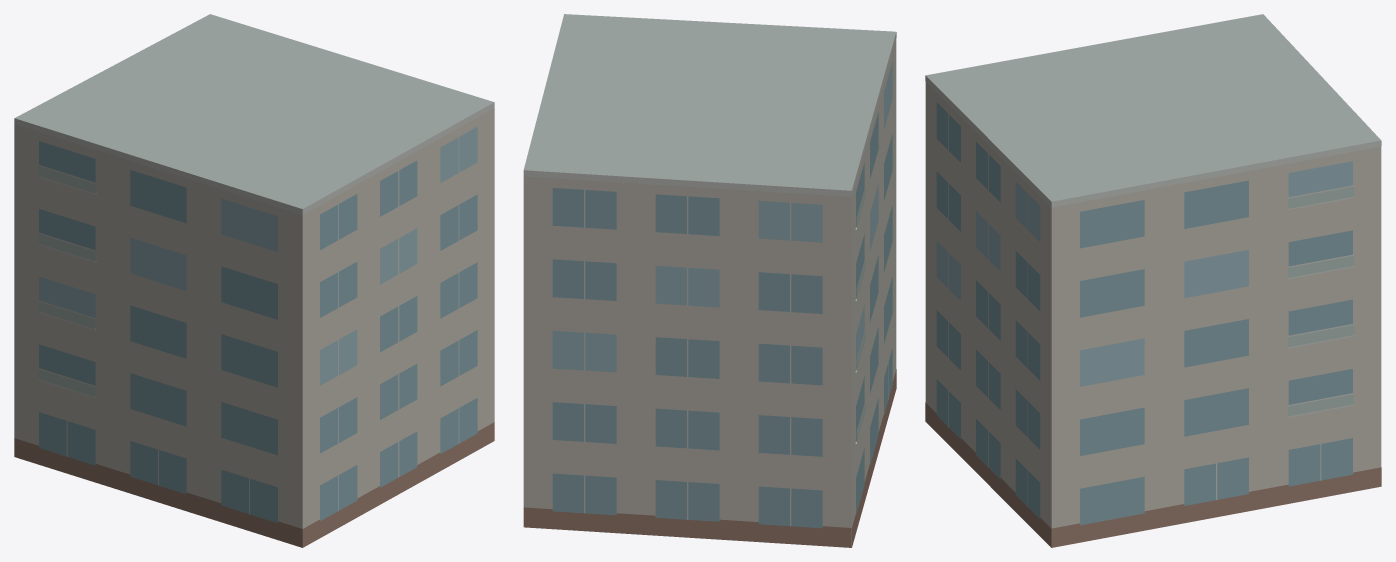
The model's file is survey-upis-32916111.glb.
3 views of the same model, side by side, from view 1: azimuth 30°, elevation 25°; view 2: azimuth 150°, elevation 25°; view 3: azimuth 270°, elevation 25° (orthographic). The views are drawn at different scales.
Visible parts, largest first — view 1: survey-upis-32916111.tmp; view 2: survey-upis-32916111.tmp; view 3: survey-upis-32916111.tmp.
Boxes of the visible parts, box(x1,y1,x2,y2) form: survey-upis-32916111.tmp: box(14, 14, 494, 547); survey-upis-32916111.tmp: box(523, 14, 896, 547); survey-upis-32916111.tmp: box(925, 14, 1381, 547).
Size of the model in its own units: 16.53 by 14.2 by 16.96.
